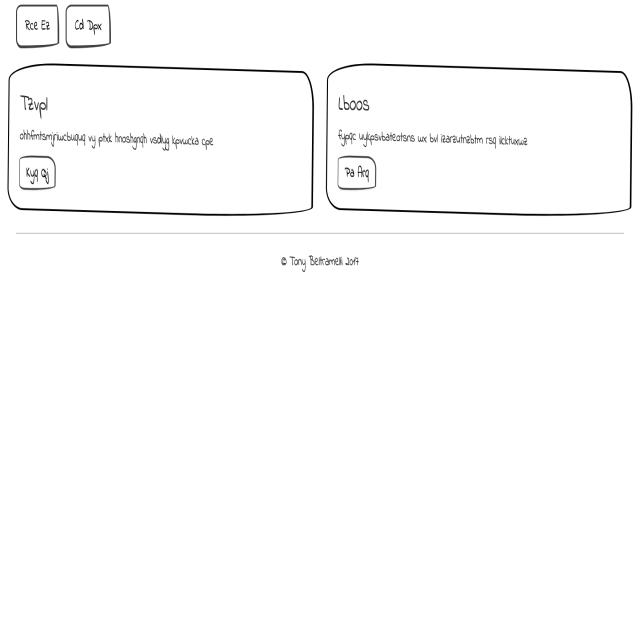Button: (16, 151, 57, 195), (334, 153, 378, 194)
Card: (5, 59, 317, 218), (326, 57, 631, 216)
Footer: (0, 225, 640, 640)
Heading 6: (16, 88, 60, 122), (333, 93, 374, 121)
Navigation Bar: (11, 0, 114, 54)
Paragraph: (16, 125, 224, 152), (336, 124, 532, 148)
